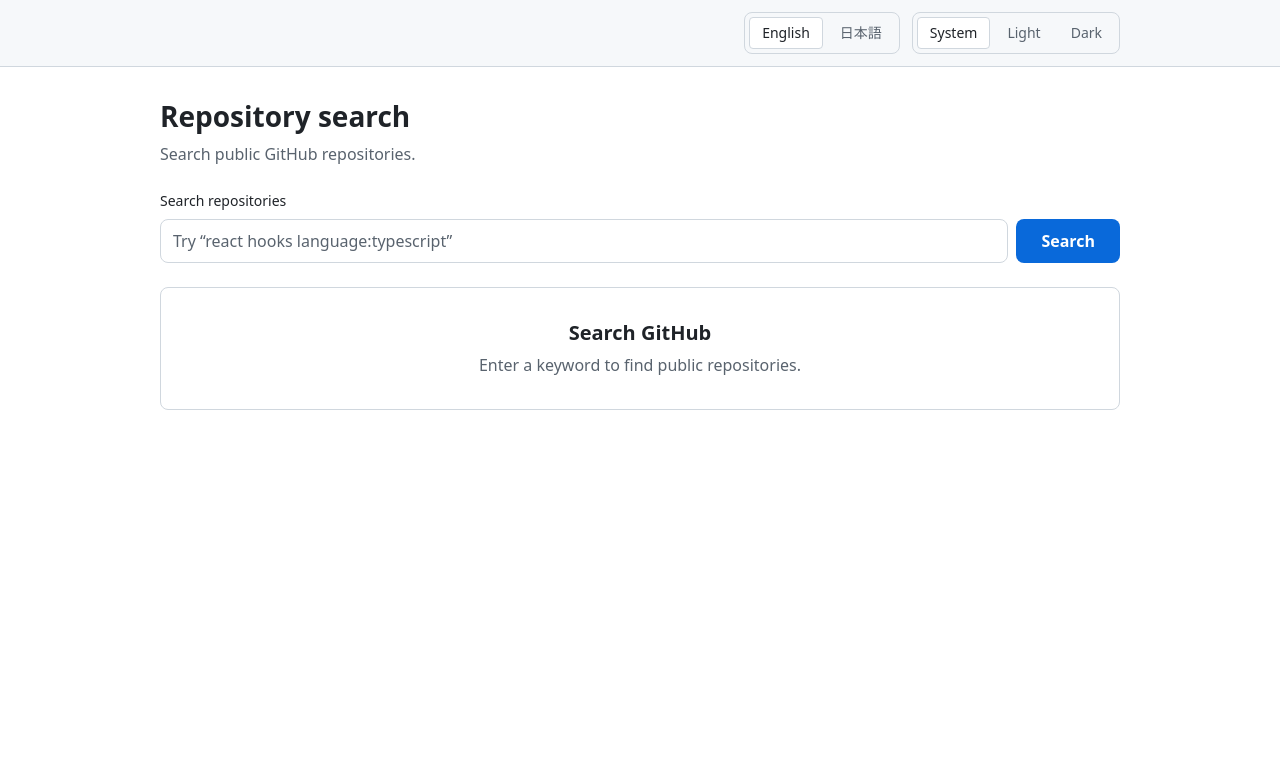
Test: App search flow › searches, validates and renders results, with the cap notice
Type "react" into the search field labelled "Search repositories" at (584, 241), box [160,219,1008,263]
Then press Enter
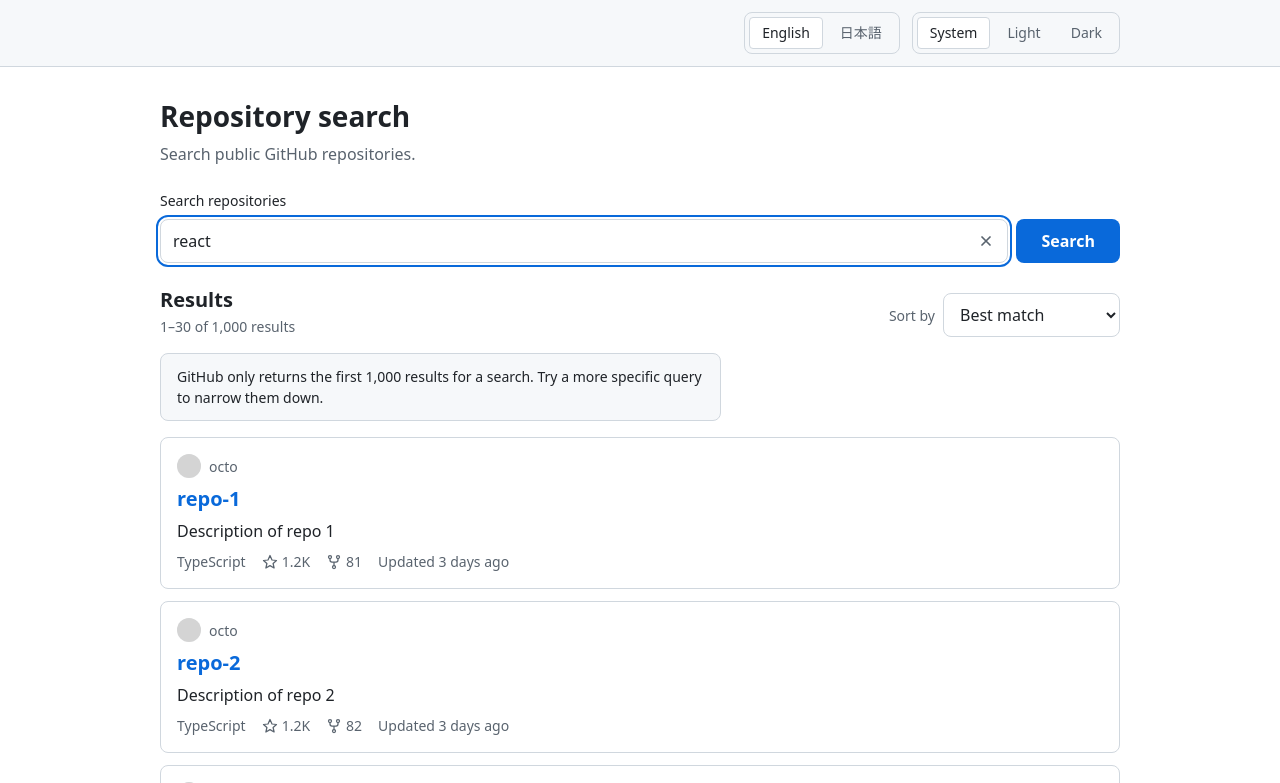
expect the link "repo-1" is shown: met, box [177,485,240,512]
expect the text "1–30 of 1,000 results" is shown: met, box [160,316,295,337]
expect the text "only returns the first 1,000" is shown: met, box [177,367,702,407]
